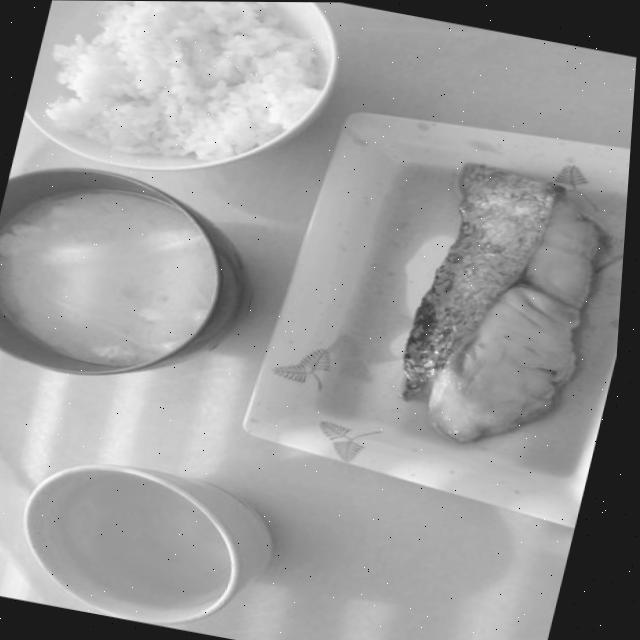米饭主食: (23, 0, 357, 196)
